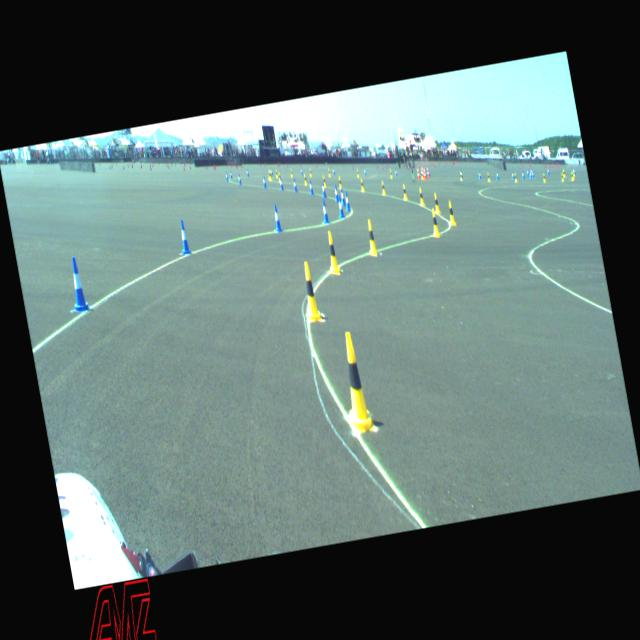blue_cone: (65, 256, 89, 311), (177, 219, 190, 255), (271, 203, 282, 231), (320, 198, 328, 222), (336, 196, 344, 217), (343, 191, 351, 211), (338, 188, 346, 205), (332, 184, 338, 201), (320, 181, 326, 197), (307, 180, 313, 193), (278, 177, 284, 189), (292, 178, 297, 192), (262, 175, 266, 187), (228, 169, 232, 178), (237, 172, 240, 183), (546, 168, 550, 175), (572, 168, 576, 175), (394, 167, 397, 176), (225, 171, 228, 180), (363, 167, 366, 176), (245, 168, 248, 176), (521, 170, 524, 178), (511, 171, 514, 179), (529, 170, 532, 178), (478, 170, 480, 179), (496, 170, 498, 178), (532, 170, 534, 178), (526, 168, 528, 176), (460, 170, 462, 178), (270, 168, 272, 175), (332, 167, 334, 174), (300, 167, 302, 174), (530, 168, 532, 173)
large_orange_cone: (415, 164, 420, 180), (425, 163, 430, 178), (422, 163, 426, 180), (420, 164, 424, 178)
yellow_cone: (335, 332, 374, 432), (297, 260, 321, 322), (324, 231, 340, 274), (364, 219, 378, 255), (428, 208, 439, 236), (446, 199, 454, 224), (432, 191, 440, 214), (418, 187, 423, 204), (380, 180, 386, 194), (359, 178, 364, 190), (402, 184, 406, 198), (338, 175, 342, 188), (322, 174, 326, 186), (302, 173, 306, 184), (486, 172, 490, 182), (274, 168, 278, 178), (560, 172, 564, 182), (513, 172, 517, 182), (542, 172, 546, 182), (458, 170, 462, 180), (277, 172, 281, 182), (268, 170, 272, 180), (266, 169, 270, 179), (388, 169, 392, 178), (419, 169, 423, 178), (570, 172, 574, 180), (562, 169, 566, 177), (356, 168, 359, 178), (308, 168, 311, 176), (290, 168, 292, 177), (572, 170, 574, 179), (328, 168, 330, 175), (572, 169, 574, 176)
